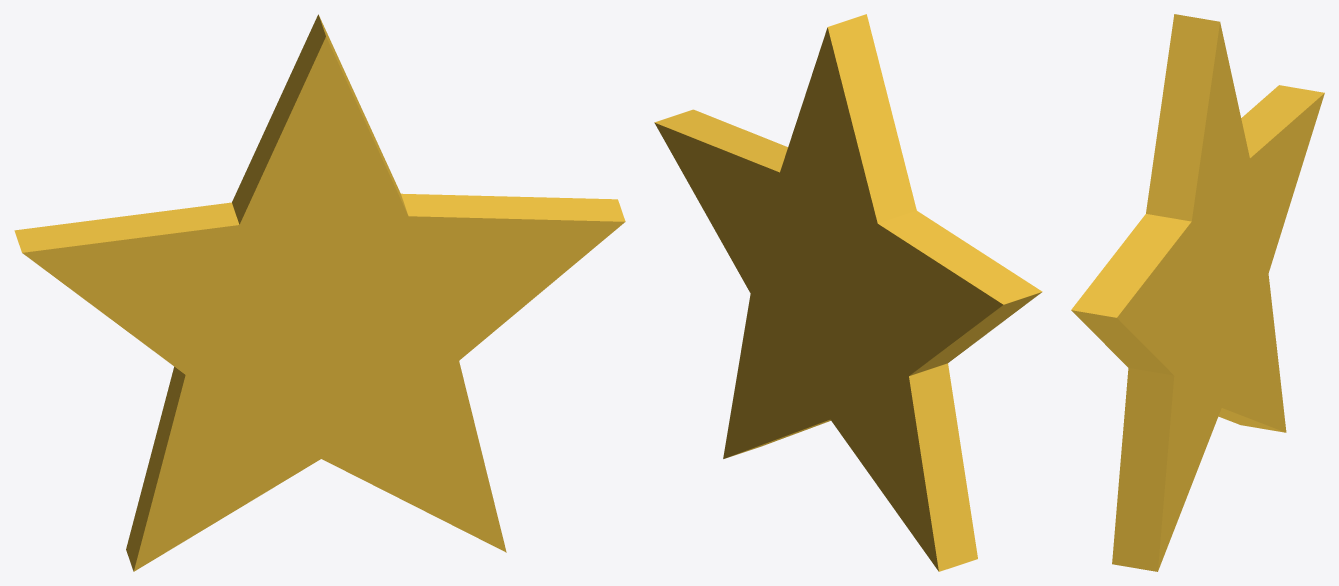
The model's file is 022_Candy_Star.fbx.
The picture shows the model from 3 angles, left to right: view 1: azimuth 30°, elevation 25°; view 2: azimuth 150°, elevation 25°; view 3: azimuth 270°, elevation 25°; orthographic projection. The views are drawn at different scales.
Visible parts, largest first — view 1: STAR.004; view 2: STAR.004; view 3: STAR.004.
Boxes of the visible parts, x1,y1,x2,y2 form: STAR.004: (14, 14, 625, 571); STAR.004: (654, 14, 1042, 571); STAR.004: (1071, 14, 1324, 571).
Size of the model in its own units: 110 by 109 by 51.84.
